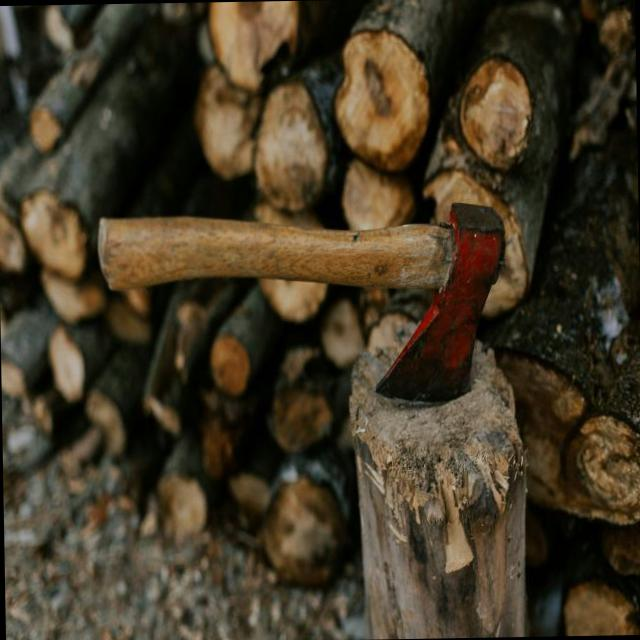Axe: (99, 204, 503, 400)
